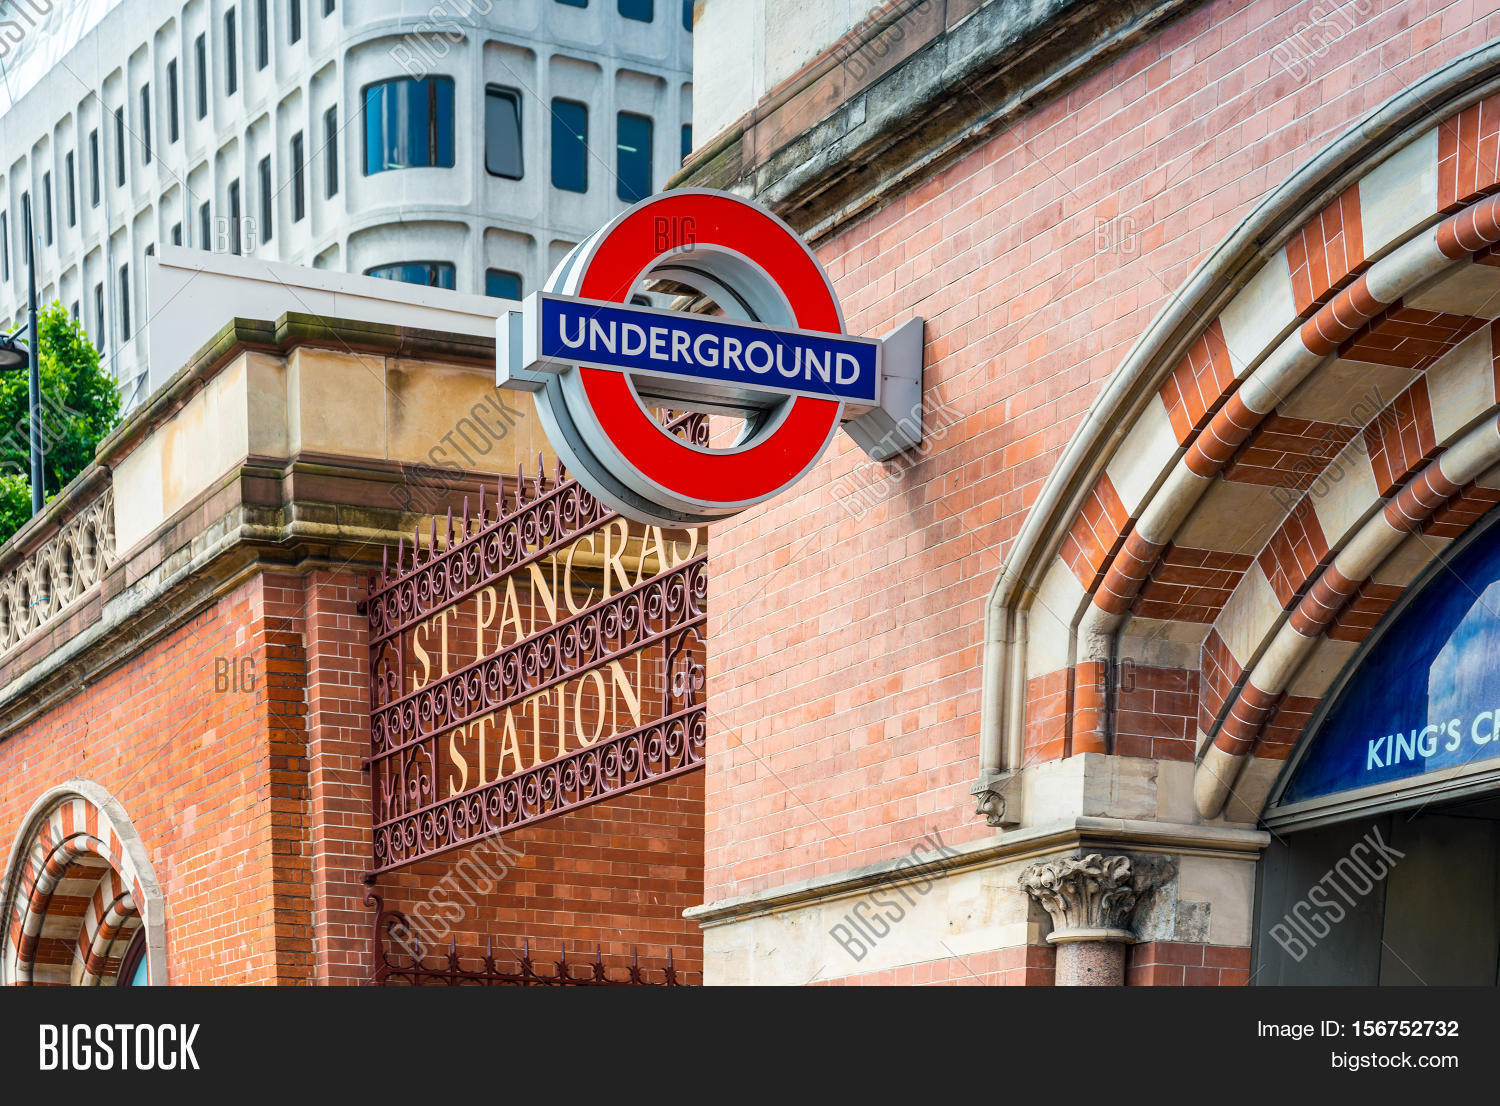London Underground: (494, 191, 866, 516)
